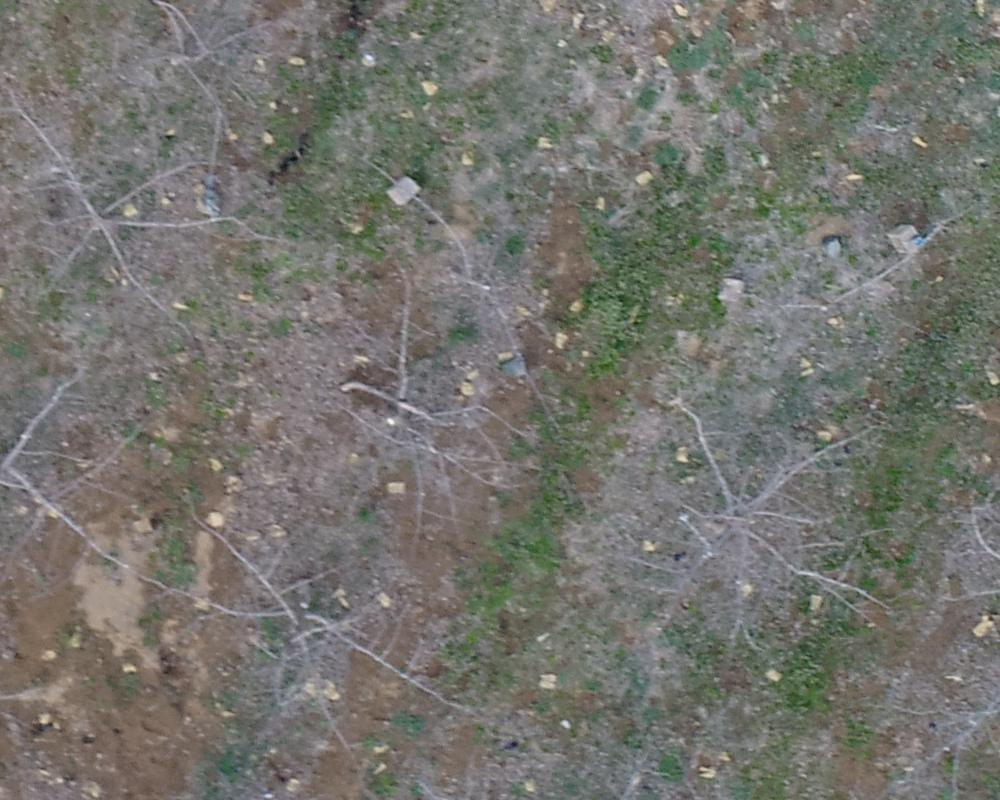apple: (604, 383, 891, 645), (167, 508, 473, 751), (307, 245, 558, 521), (10, 89, 249, 321), (10, 374, 166, 589), (79, 10, 296, 140)
